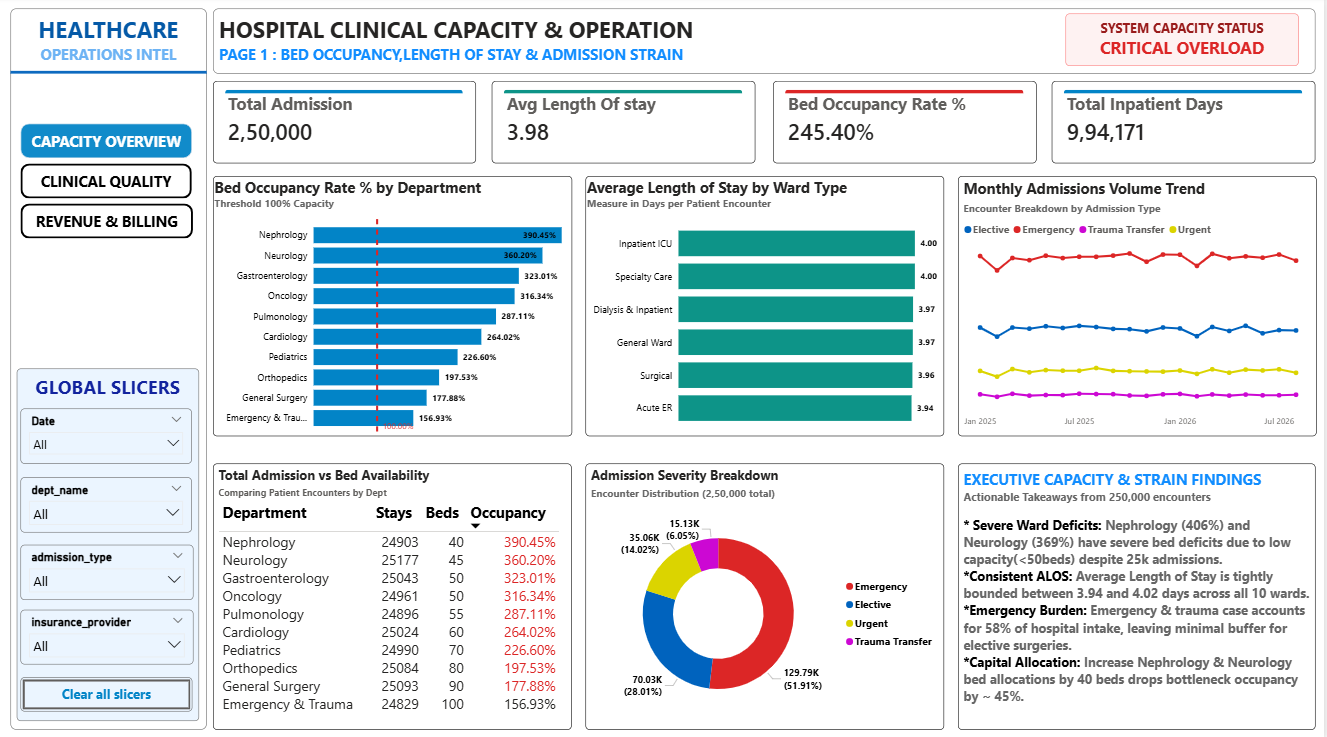

What the dashboard file says about the page in this screenshot:
{"tool":"powerbi","page":{"name":"Capacity & Occupancy Overview","canvas":[1920,1080],"ordinal":0},"visuals":[{"type":"textbox","box":[18.1,18.1,284.1,1044.2],"z":0},{"type":"textbox","box":[311.3,18.1,1596.1,94.1],"z":1000},{"type":"textbox","box":[27.1,539.3,264.2,510.3],"z":2000},{"type":"slicer","fields":{"Values":["Dim_Calendar.Date"]},"box":[33.4,596.9,248.3,80],"z":3000},{"type":"slicer","fields":{"Values":["healthcare dim_departments.dept_name"]},"box":[33.4,697,248.3,80],"z":4000},{"type":"slicer","fields":{"Values":["healthcare clean_fact_admission.admission_type"]},"box":[33.4,795.1,250.4,80],"z":5000},{"type":"slicer","fields":{"Values":["healthcare clean_dim_patients.insurance_provider"]},"box":[33.4,889,250.4,79.3],"z":6000},{"type":"actionButton","box":[32.9,985.9,249.1,49.4],"z":7000},{"type":"actionButton","box":[33.4,184,248.3,50.1],"z":8000},{"type":"actionButton","box":[33,242,247.9,50.7],"z":9000},{"type":"actionButton","box":[33,300,249.7,50.7],"z":10000},{"type":"clusteredBarChart","title":"Bed Occupancy Rate % by Department","fields":{"Category":["healthcare dim_departments.dept_name"],"Y":["Measure.Bed Occupancy Rate %"]},"box":[311.6,259.7,520,376.6],"z":11000},{"type":"clusteredBarChart","title":"Average Length of Stay by Ward Type","fields":{"Category":["healthcare dim_departments.ward_type"],"Y":["Measure.Avg Length Of stay"]},"box":[850.5,259.7,519.4,376.6],"z":12000},{"type":"lineChart","title":"Monthly Admissions Volume Trend","fields":{"Series":["healthcare clean_fact_admission.admission_type"],"Y":["Measure.Total Admission"],"Category":["Dim_Calendar.Date.Variation.Date Hierarchy.Year","Dim_Calendar.Date.Variation.Date Hierarchy.Month"]},"box":[1389.4,259.7,519.4,376.6],"z":13000},{"type":"tableEx","title":"Total Admission vs Bed Availability ","fields":{"Values":["healthcare dim_departments.dept_name","Measure.Total Admission","healthcare dim_departments.bed_capacity","Measure.Bed Occupancy Rate %"]},"box":[311.6,677.4,519.4,385.2],"z":14000},{"type":"donutChart","title":"Admission Severity Breakdown","fields":{"Category":["healthcare clean_fact_admission.admission_type"],"Y":["Measure.Total Admission"]},"box":[850.5,677.4,519.4,385.2],"z":15000},{"type":"textbox","box":[1545.2,26,337.6,75.7],"z":16000},{"type":"textbox","box":[1389.8,676.8,517.6,385.5],"z":17000},{"type":"cardVisual","title":"30-Days Readmission Rate %","fields":{"Data":["Measure.Total Admission"]},"box":[311.6,123.4,380.9,119],"z":18000},{"type":"cardVisual","title":"30-Days Readmission Rate %","fields":{"Data":["Measure.Avg Length Of stay"]},"box":[714.8,123.1,381.8,119.4],"z":19000},{"type":"cardVisual","title":"30-Days Readmission Rate %","fields":{"Data":["Measure.Bed Occupancy Rate %"]},"box":[1122,123.1,381.8,119.4],"z":20000},{"type":"cardVisual","title":"30-Days Readmission Rate %","fields":{"Data":["Measure.Total Inpatient Days"]},"box":[1525.5,123.1,381.8,119.4],"z":21000},{"type":"shape","box":[17.7,101,284.1,18.1],"z":22000}]}

Visuals, with their boxes in screenshot pixels (x1, y1, x2, y2), scaled from the page's 1920x1080 canvas onto the 1327x737 screenshot:
textbox: [13,12,209,725]
textbox: [215,12,1318,77]
textbox: [19,368,201,716]
slicer - Dim_Calendar.Date: [23,407,195,462]
slicer - healthcare dim_departments.dept_name: [23,476,195,530]
slicer - healthcare clean_fact_admission.admission_type: [23,543,196,597]
slicer - healthcare clean_dim_patients.insurance_provider: [23,607,196,661]
actionButton: [23,673,195,706]
actionButton: [23,126,195,160]
actionButton: [23,165,194,200]
actionButton: [23,205,195,239]
"Bed Occupancy Rate % by Department" clusteredBarChart: [215,177,575,434]
"Average Length of Stay by Ward Type" clusteredBarChart: [588,177,947,434]
"Monthly Admissions Volume Trend" lineChart: [960,177,1319,434]
"Total Admission vs Bed Availability " tableEx: [215,462,574,725]
"Admission Severity Breakdown" donutChart: [588,462,947,725]
textbox: [1068,18,1301,69]
textbox: [961,462,1318,725]
"30-Days Readmission Rate %" cardVisual: [215,84,479,165]
"30-Days Readmission Rate %" cardVisual: [494,84,758,165]
"30-Days Readmission Rate %" cardVisual: [775,84,1039,165]
"30-Days Readmission Rate %" cardVisual: [1054,84,1318,165]
shape: [12,69,209,81]
